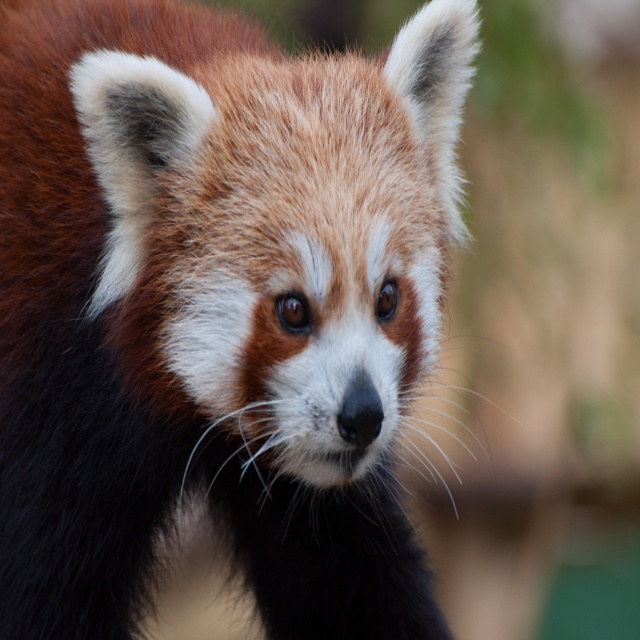Red panda: (0, 0, 522, 639)
